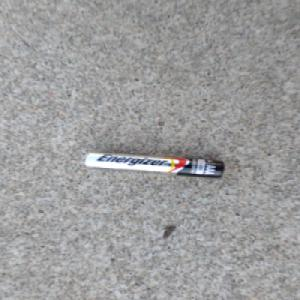Battery: (80, 151, 226, 178)
